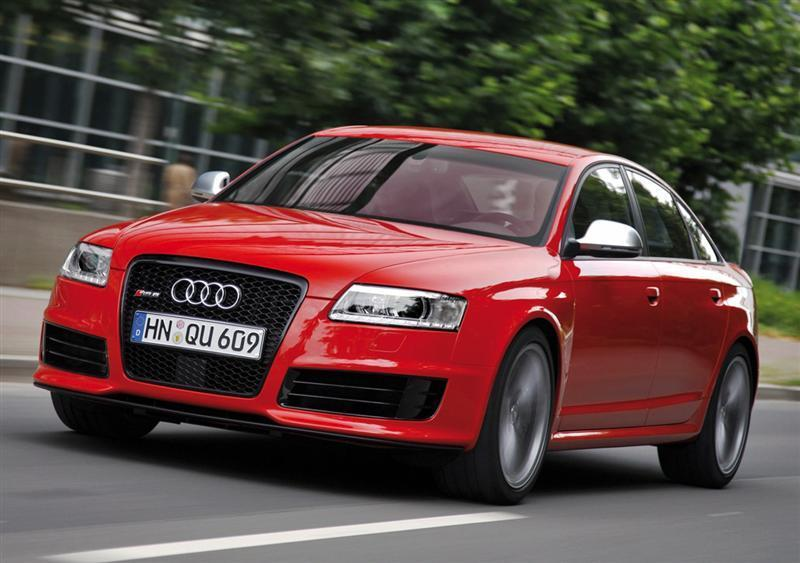Audi: (164, 267, 248, 325)
